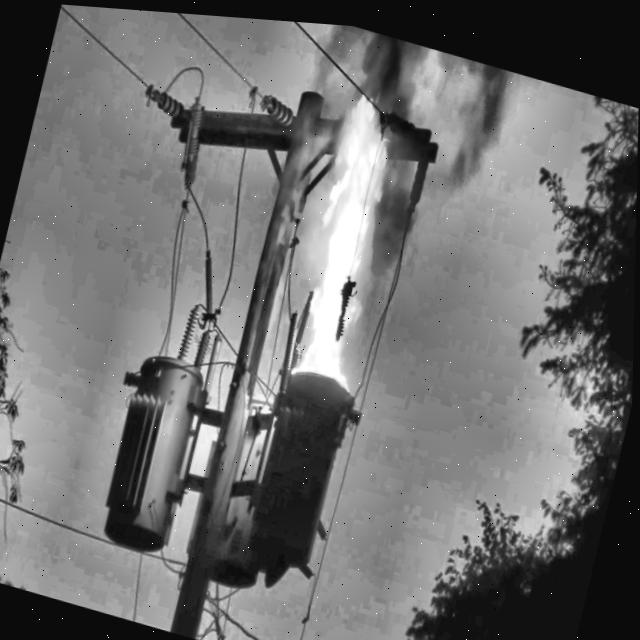Fire: (263, 74, 428, 409)
